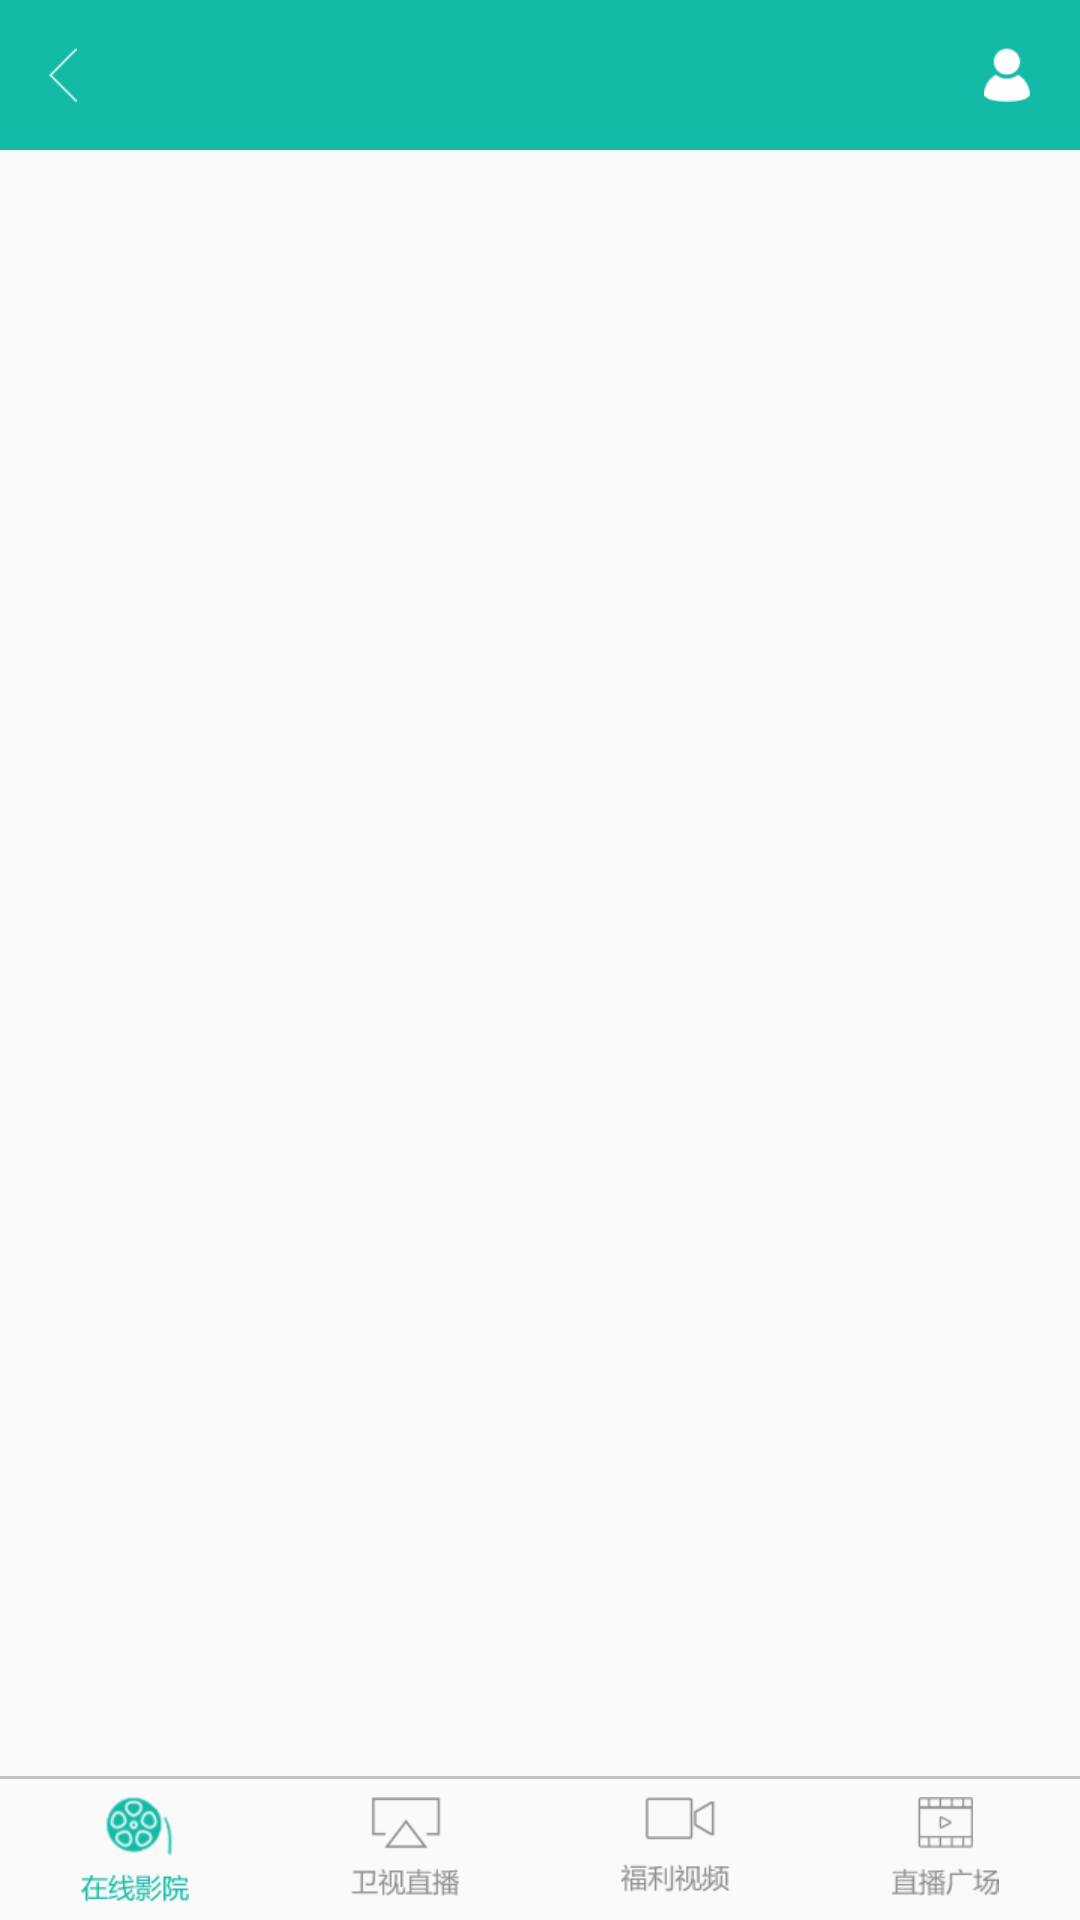

Named icons in this screenshot (1080px x 1920px) and their centers, (x,y):
back: (63,75)
user: (1007,75)
